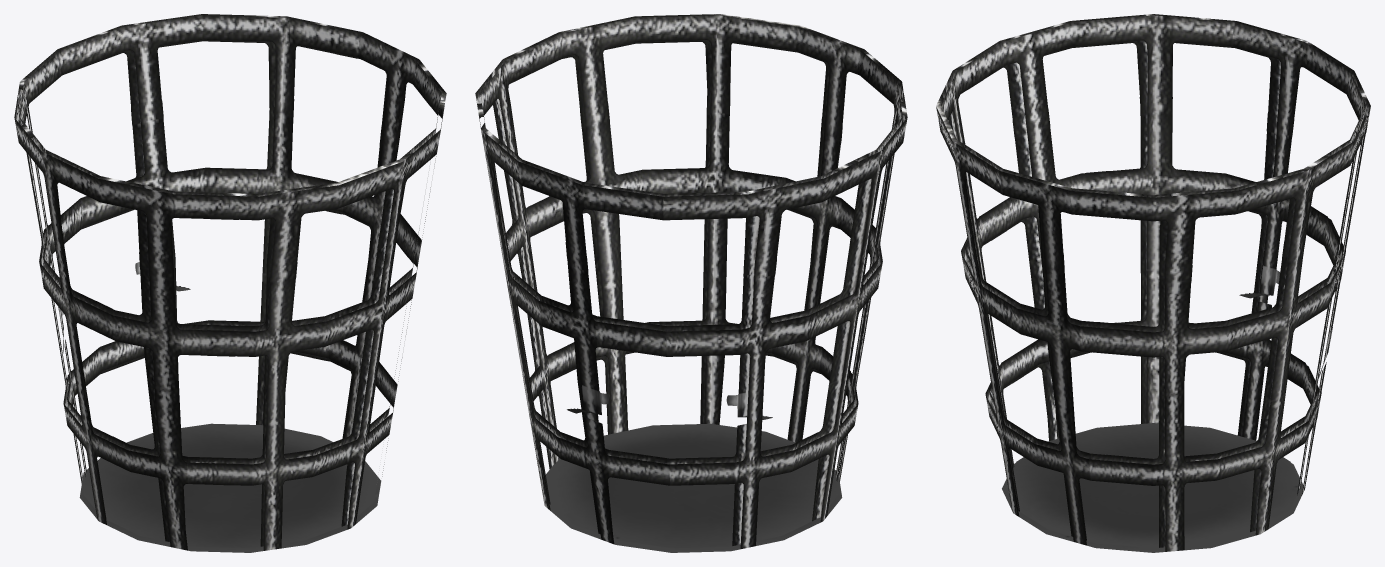
Rendered from TrashCan.fbx.
3 renders of one model, left to right at view 1: azimuth 30°, elevation 25°; view 2: azimuth 150°, elevation 25°; view 3: azimuth 270°, elevation 25°, orthographic.
Visible parts, largest first — view 1: Cylinder.001; view 2: Cylinder.001; view 3: Cylinder.001.
Part boxes in pixels (x1,y1,x2,y2): Cylinder.001: (14,14,446,552); Cylinder.001: (475,14,907,552); Cylinder.001: (936,14,1370,552).
Bounding box in the file's own units: 16.89 × 16.44 × 16.89.
